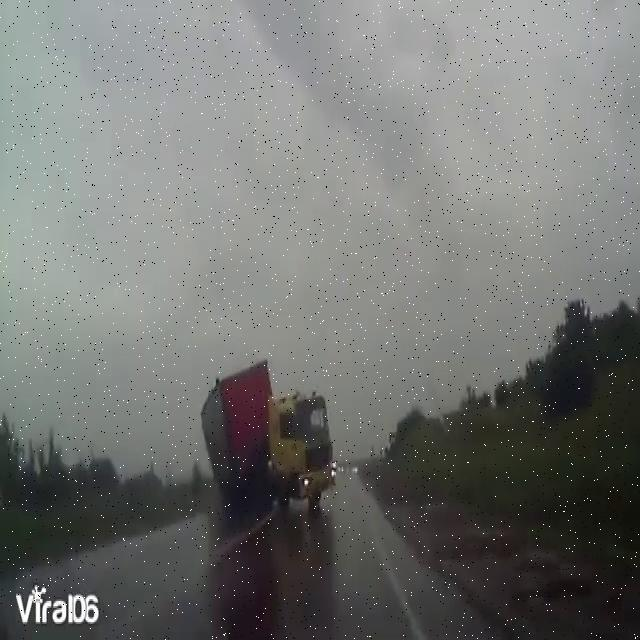low-cars-accident: (199, 362, 335, 517)
